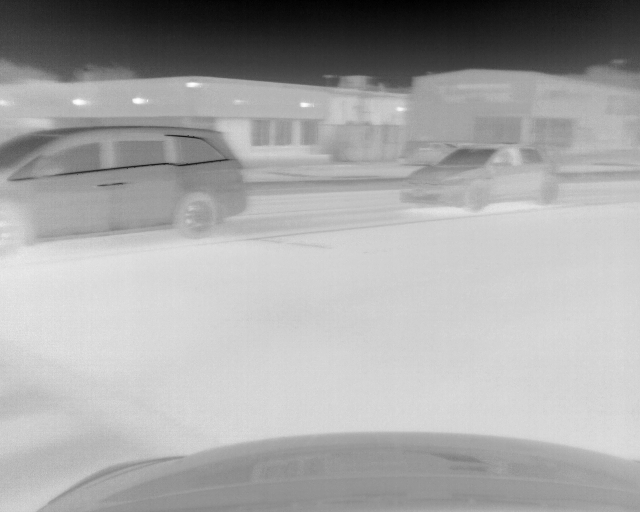car: (1, 122, 250, 257), (401, 143, 560, 215)
